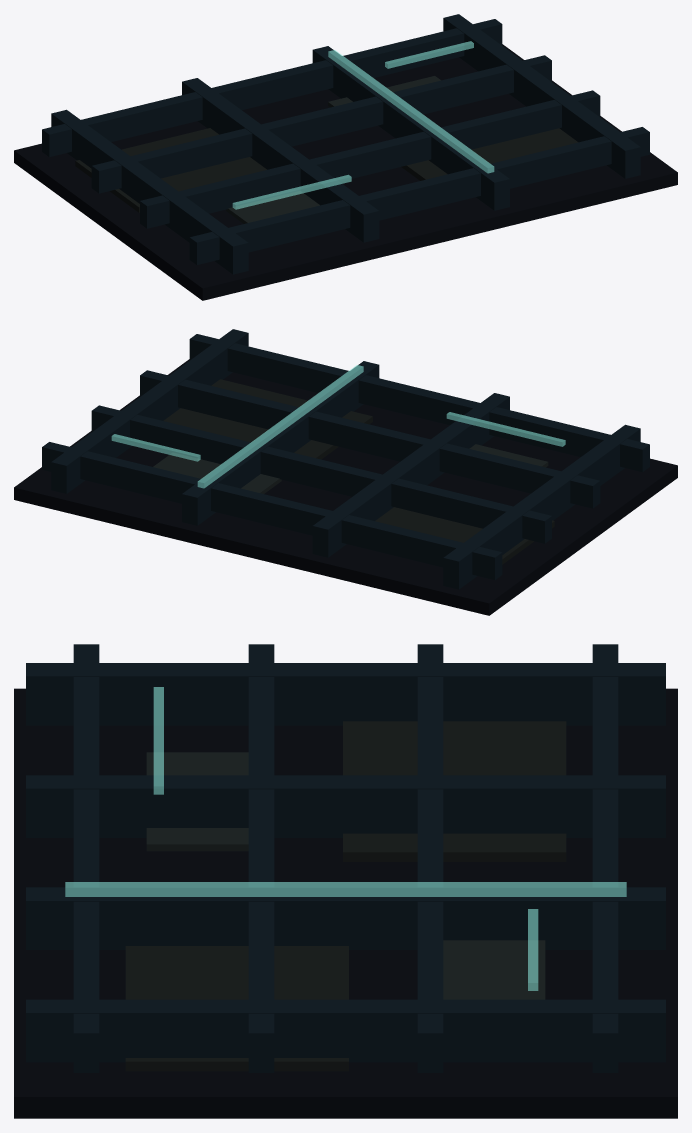
Rendered from hp_room_ceiling_panel_residential.glb.
3 views of the same model, one above another, from view 1: azimuth 30°, elevation 25°; view 2: azimuth 150°, elevation 25°; view 3: azimuth 270°, elevation 25° (orthographic). The views are drawn at different scales.
Visible parts, largest first — view 1: residential_ceiling_shadow_backplate, residential_ceiling_cyan_spine; view 2: residential_ceiling_shadow_backplate, residential_ceiling_cyan_spine; view 3: residential_ceiling_shadow_backplate, residential_ceiling_cyan_spine.
Part boxes in pixels (<box>): residential_ceiling_shadow_backplate: <box>14,14,677,300</box>; residential_ceiling_cyan_spine: <box>232,41,494,209</box>; residential_ceiling_shadow_backplate: <box>14,329,677,615</box>; residential_ceiling_cyan_spine: <box>111,365,565,488</box>; residential_ceiling_shadow_backplate: <box>14,644,677,1118</box>; residential_ceiling_cyan_spine: <box>65,687,626,990</box>.
Bounding box in the file's own units: 3.2 × 0.315 × 2.2.
2 materials, 2 textured.
